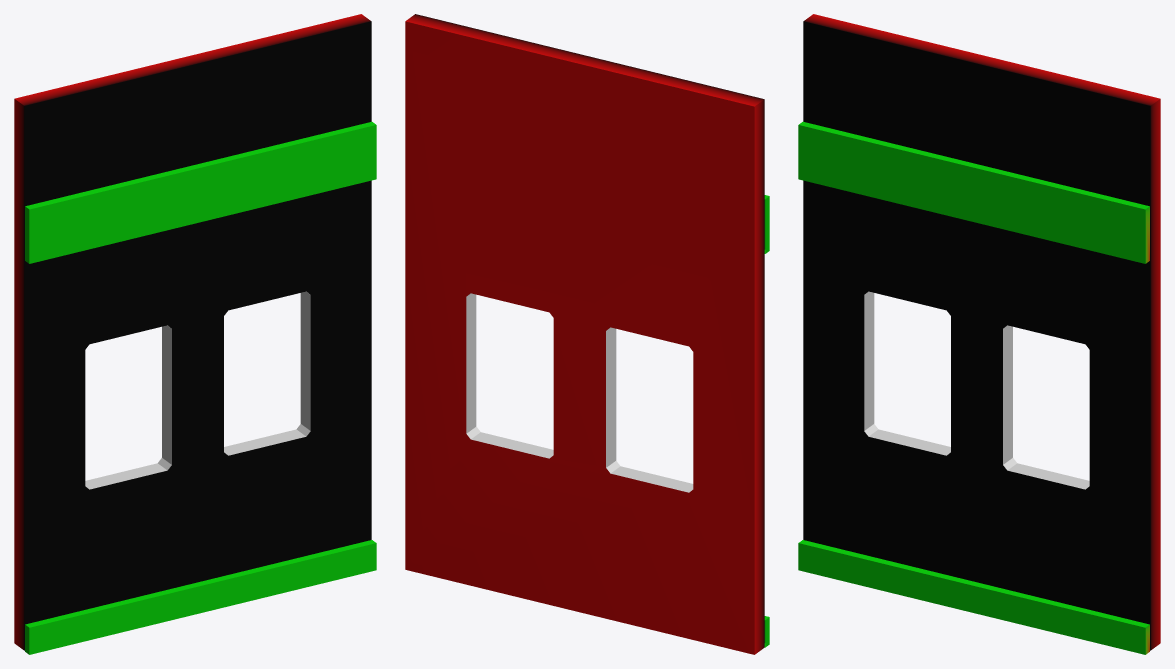
Rendered from FlatWallV2.fbx.
The picture shows the model from 3 angles, left to right: view 1: azimuth 30°, elevation 25°; view 2: azimuth 150°, elevation 25°; view 3: azimuth 330°, elevation 25°; orthographic projection.
Visible parts, largest first — view 1: FlatBase_2Windows, FlatBaseWall_1, FlatBaseWall, Cube_1, Cube; view 2: FlatBase_2Windows, Cube, Cube_1; view 3: FlatBase_2Windows, FlatBaseWall_1, FlatBaseWall, Cube, Cube_1.
Boxes of the visible parts, x1,y1,x2,y2 form: FlatBase_2Windows: (14,14,371,650); FlatBaseWall_1: (25,121,376,263); FlatBaseWall: (25,540,376,654); Cube_1: (224,291,310,455); Cube: (85,325,171,489); FlatBase_2Windows: (405,14,764,654); Cube: (606,327,693,492); Cube_1: (466,293,553,458); FlatBase_2Windows: (803,14,1160,650); FlatBaseWall_1: (798,121,1149,263); FlatBaseWall: (798,540,1149,654); Cube: (864,291,950,455); Cube_1: (1003,325,1089,489).
Bounding box in the file's own units: 400 × 601 × 30.
